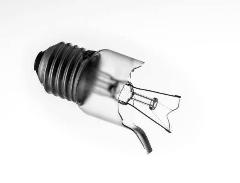lightbulb: (33, 41, 181, 155)
